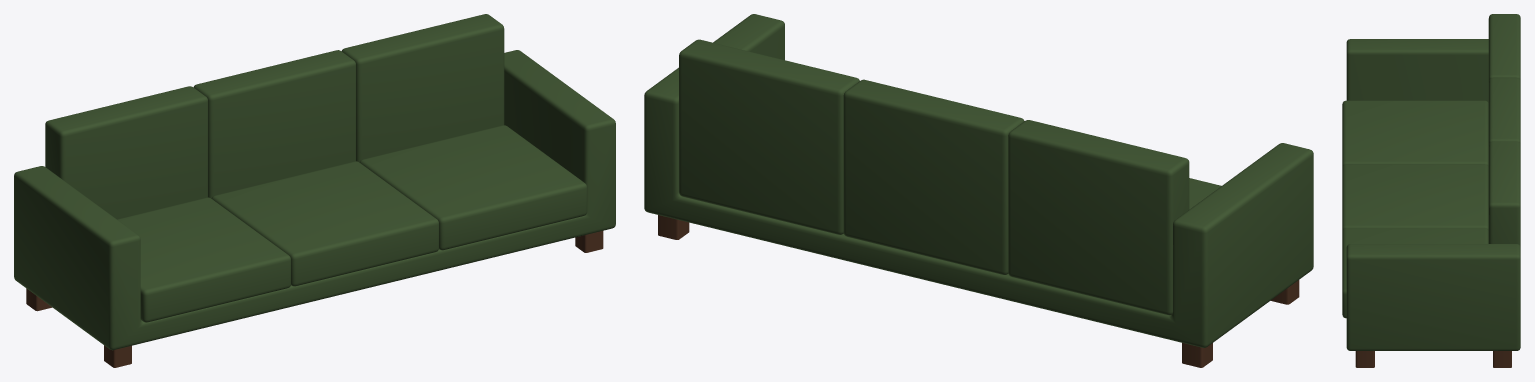
File: 3SeaterSofa.fbx
The picture shows the model from 3 angles, left to right: view 1: azimuth 30°, elevation 25°; view 2: azimuth 150°, elevation 25°; view 3: azimuth 270°, elevation 25°; orthographic projection. The views are drawn at different scales.
Visible parts, largest first — view 1: Box120, Column_stanick026; view 2: Box120, Column_stanick026; view 3: Box120, Column_stanick026.
Part boxes in pixels (x1,y1,x2,y2): Box120: [14, 14, 615, 350]; Column_stanick026: [26, 231, 603, 367]; Box120: [644, 14, 1313, 347]; Column_stanick026: [658, 215, 1299, 367]; Box120: [1342, 14, 1520, 350]; Column_stanick026: [1355, 351, 1511, 367].
Size of the model in its own units: 2433 by 840 by 800.
